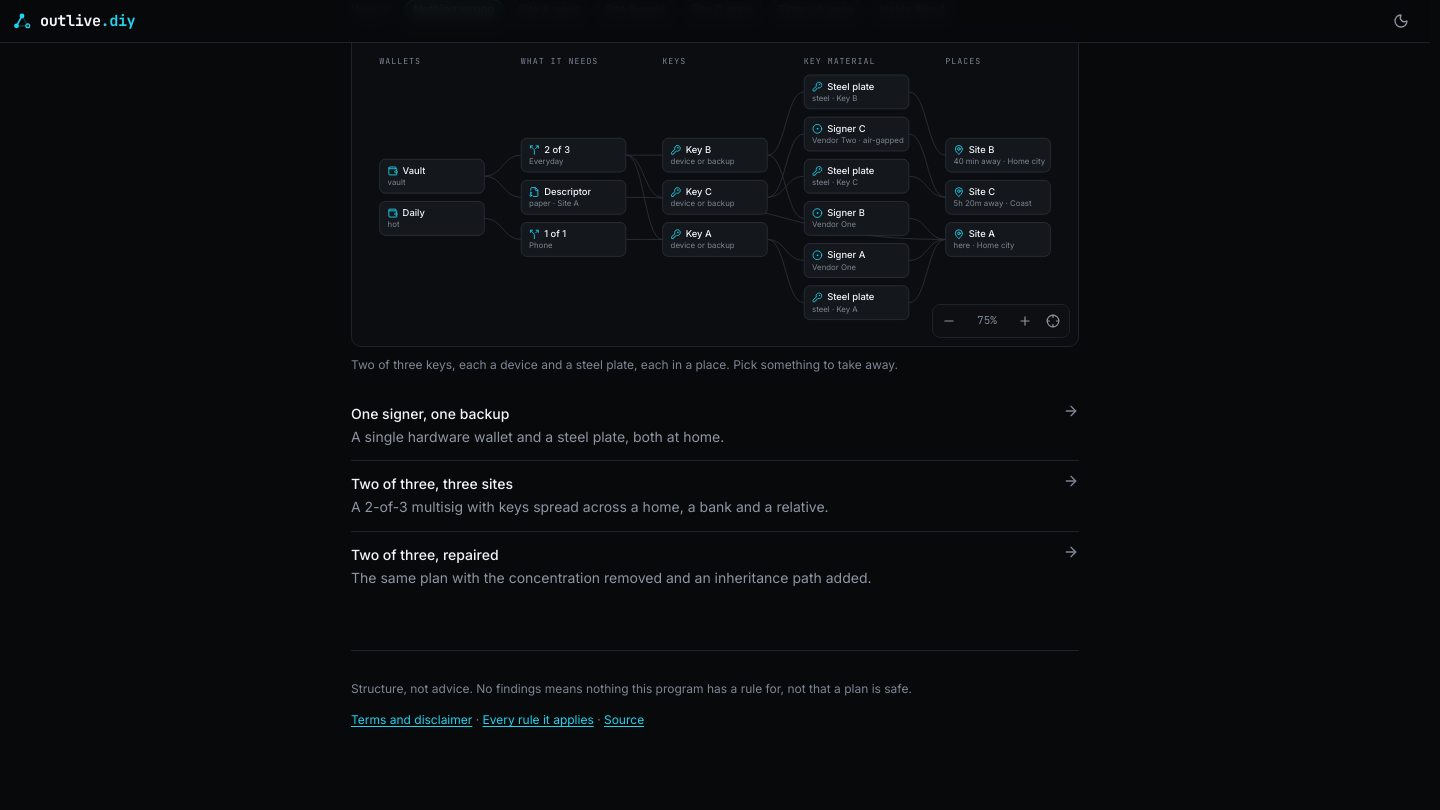
the application › opens a worked example and reports findings about it
The width and height of the screenshot is (1440, 810).
(page scrolled)
Click the text "One signer, one backup".
click(430, 413)  # box [351,405,509,422]
(page scrolled)
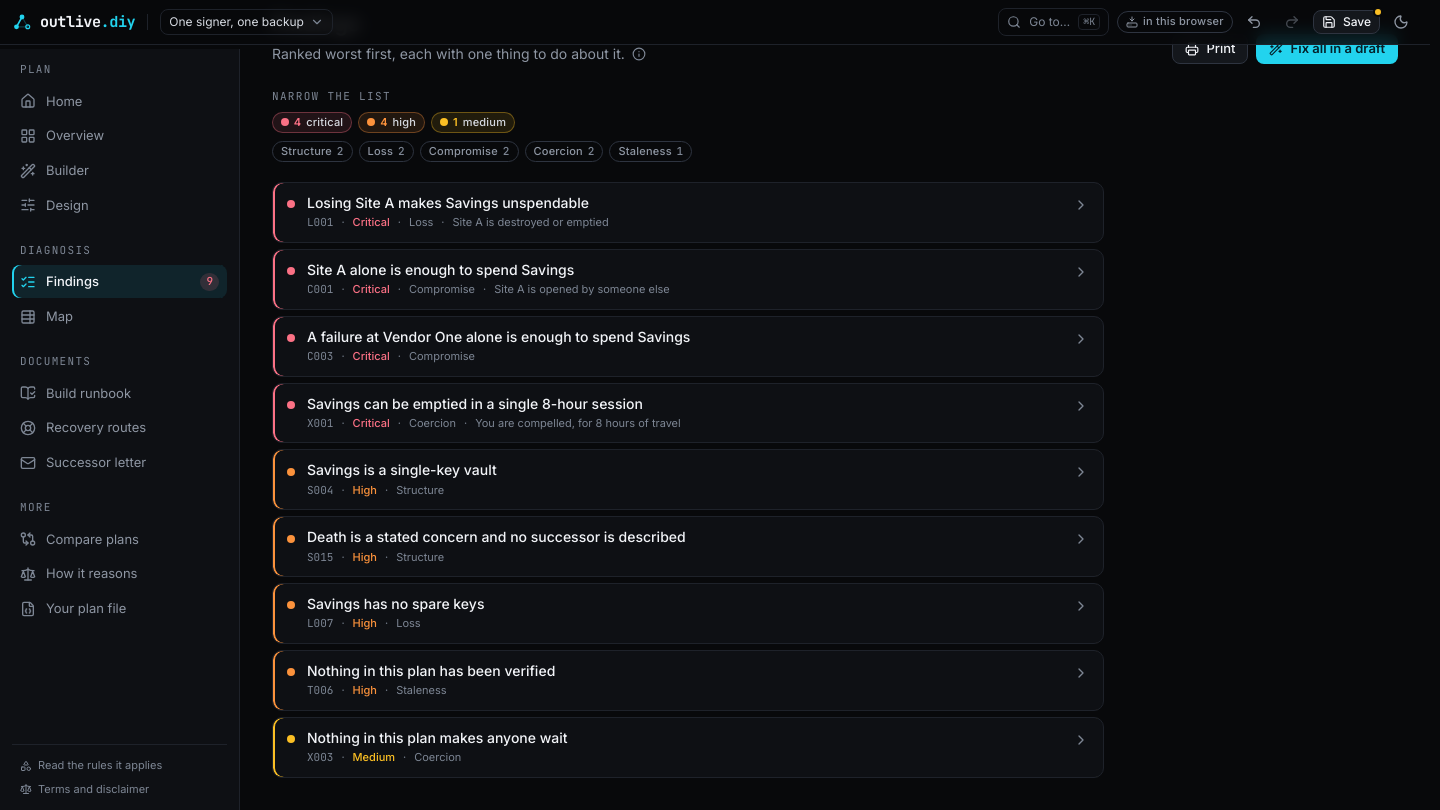
Expected: the heading "Findings" is shown, [272,10,360,36]
Expected: the text "Site A alone is enough to spend Savings" is shown, [307,261,574,278]
